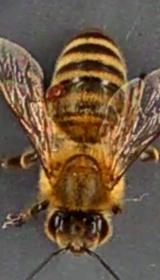varroa_mite: (42, 74, 83, 111)
